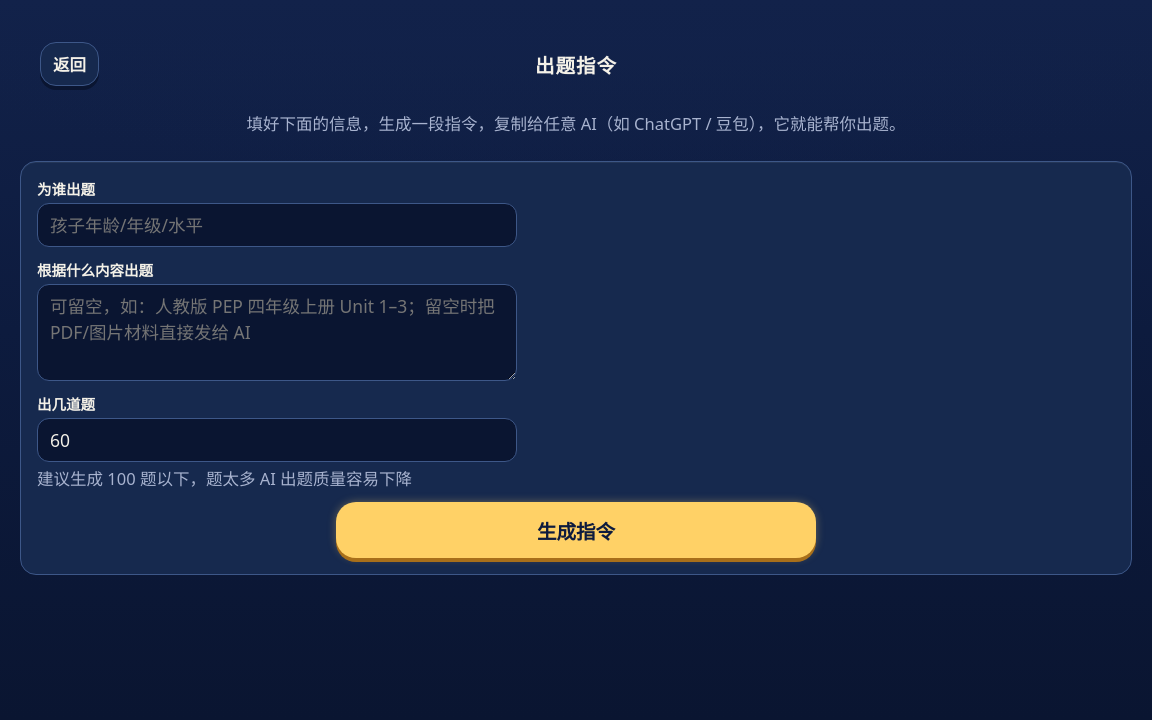
Test: 校验交互（#141）：失焦逐字段校验、就近报错、有错禁用生成 › 题数为空 → 失焦即在该字段旁报错、其余字段不误报、生成按钮禁用、无结果区
Type "小学三年级，剑桥少儿英语 Starters 水平" into the field labelled "为谁出题" at x=277, y=225, box [37,203,517,247]
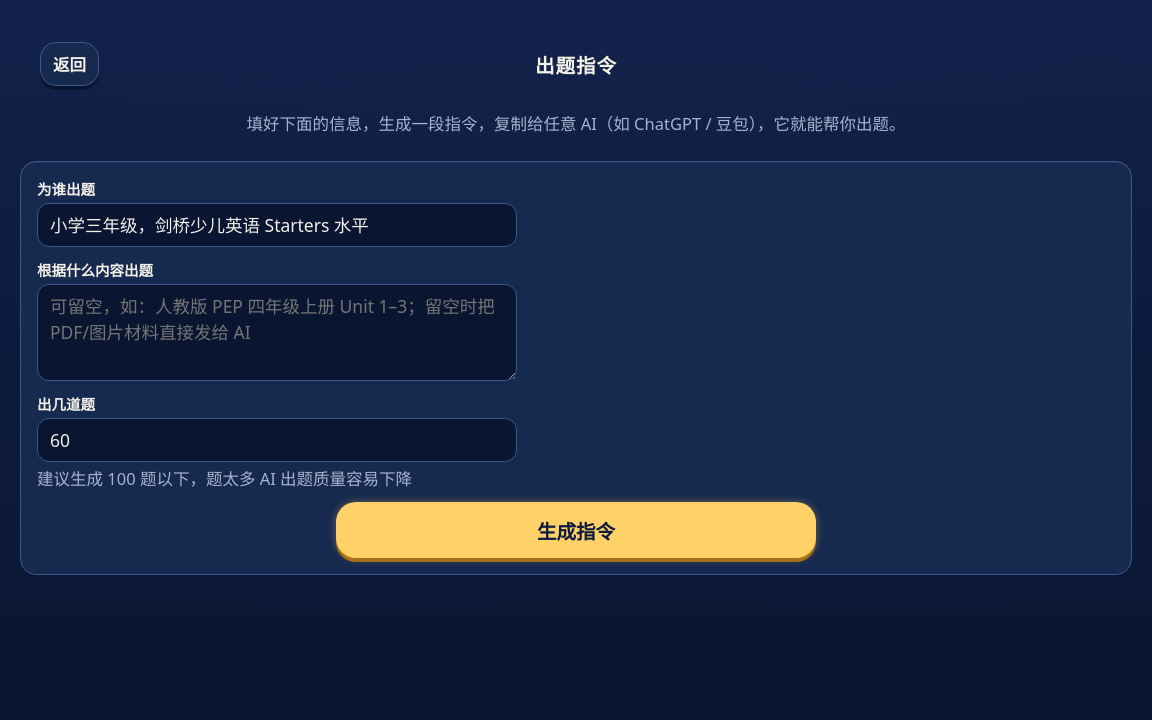
Type "人教版 PEP 四年级上册 Unit 1–3" into the text box labelled "根据什么内容出题" at x=277, y=332, box [37,284,517,381]
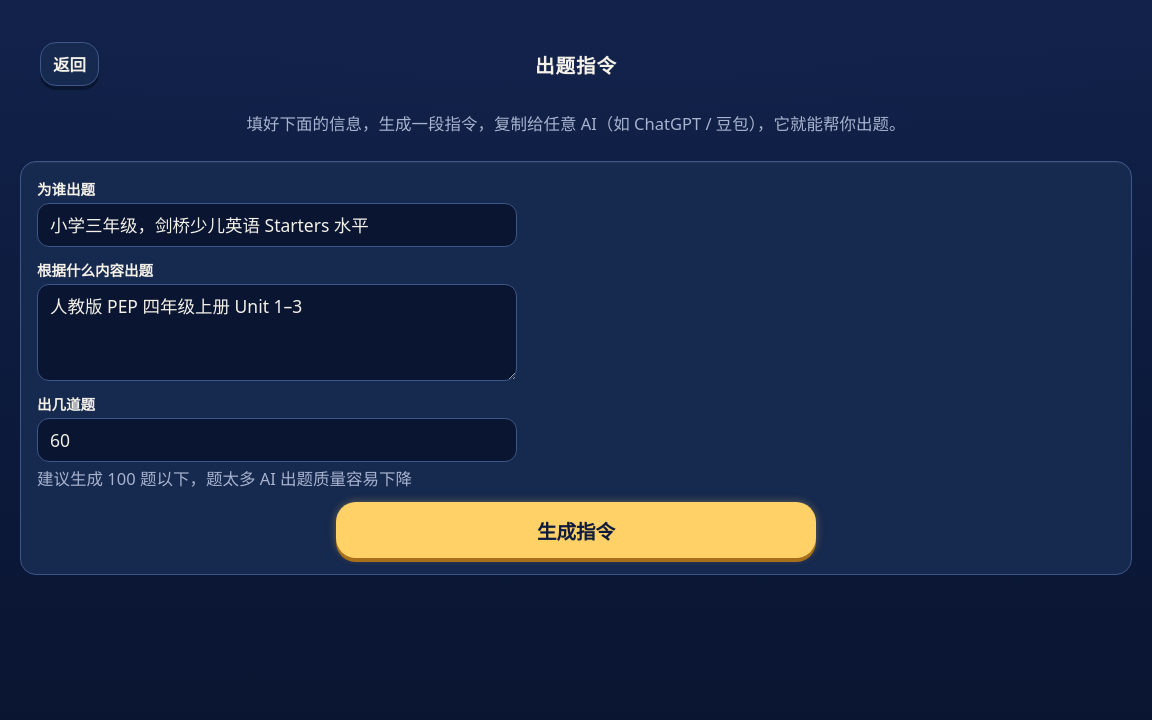
Clear the number field labelled "出几道题" at x=277, y=440, box [37,418,517,462]
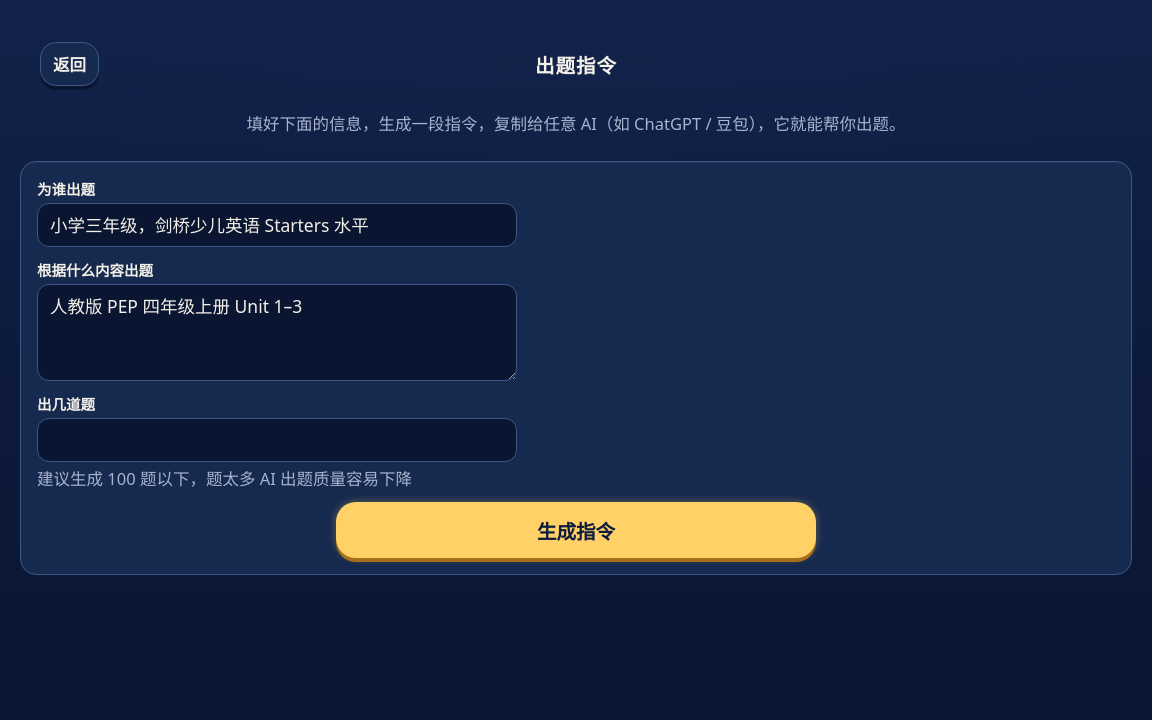
Leave the number field labelled "出几道题", box [37,418,517,462]
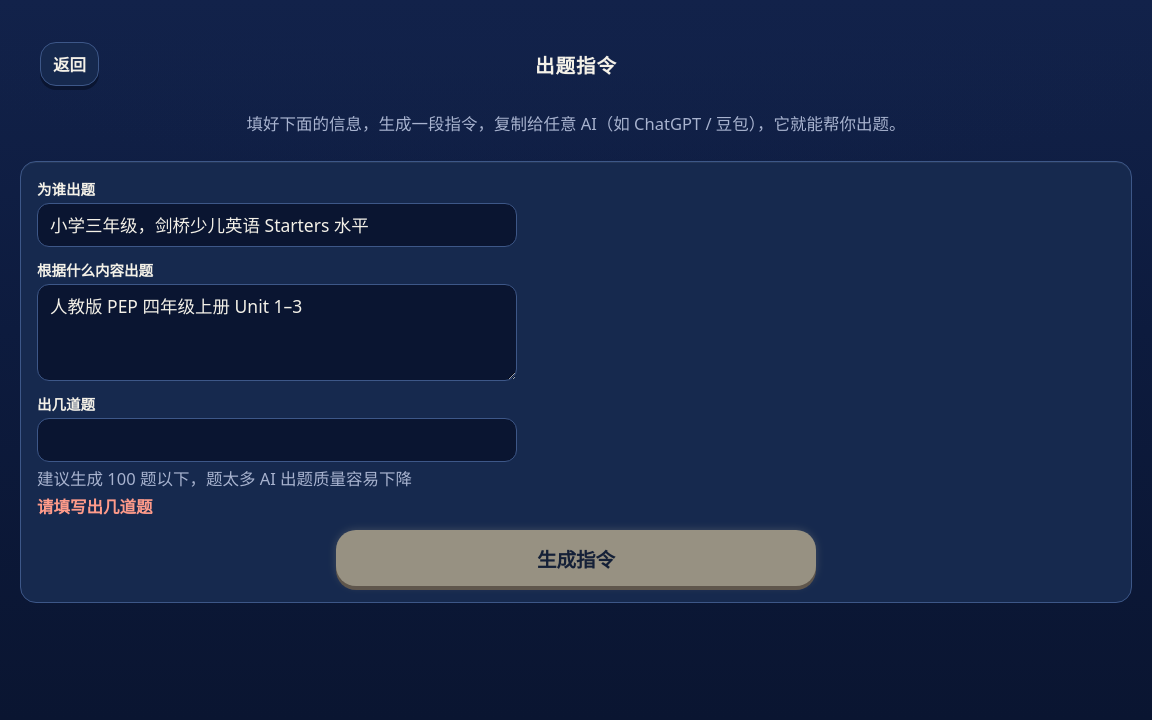
expect the message "请填写出几道题" is shown: met, box [37,495,152,518]
